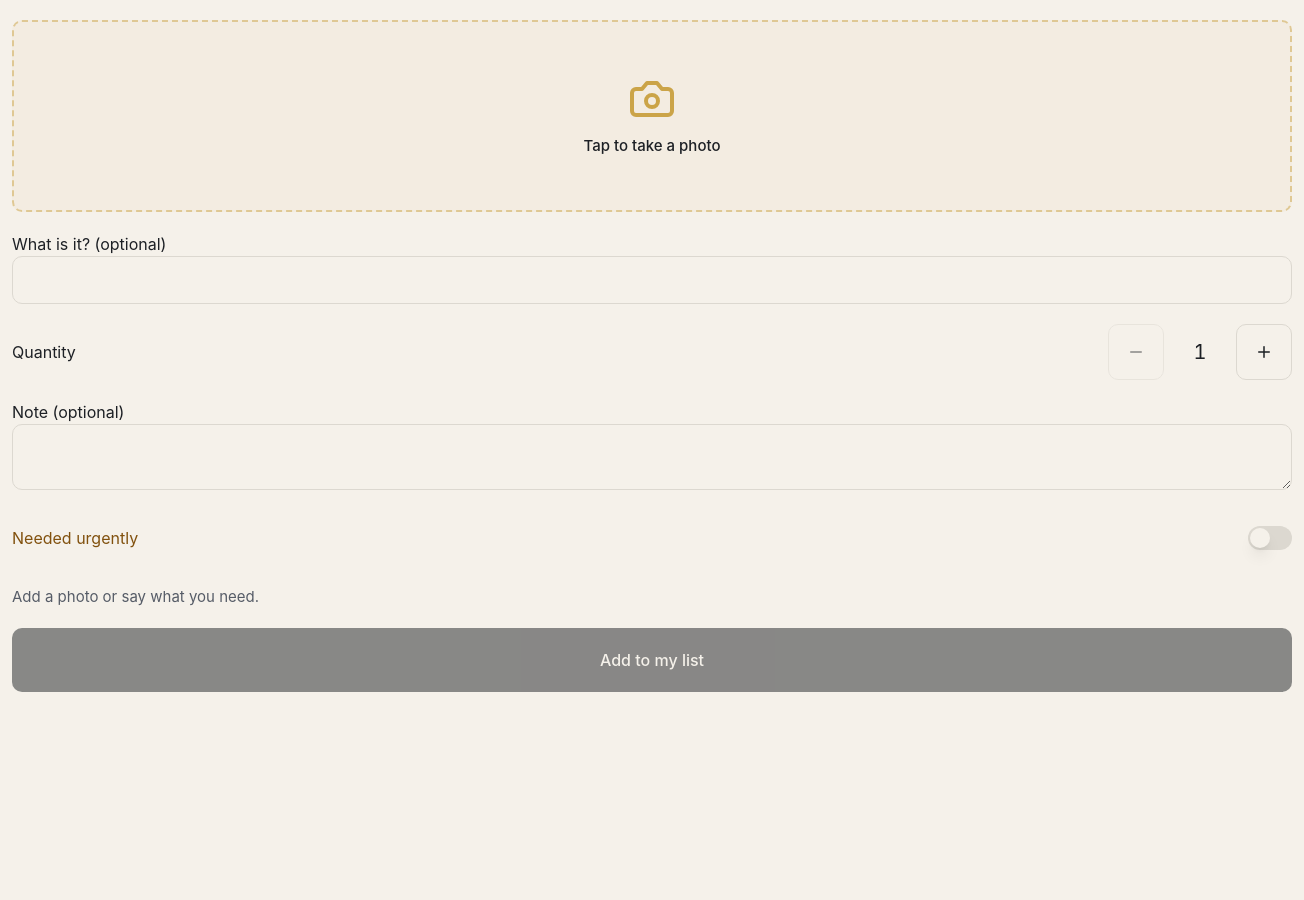
Test case: request forms › failed request keeps text and permits retry
This screenshot has width=1304, height=900.
Later steps or results of the test are not shown.
Type "Towels" into the field labelled "What is it? (optional)". click: (652, 280)
box: [12,256,1292,304]
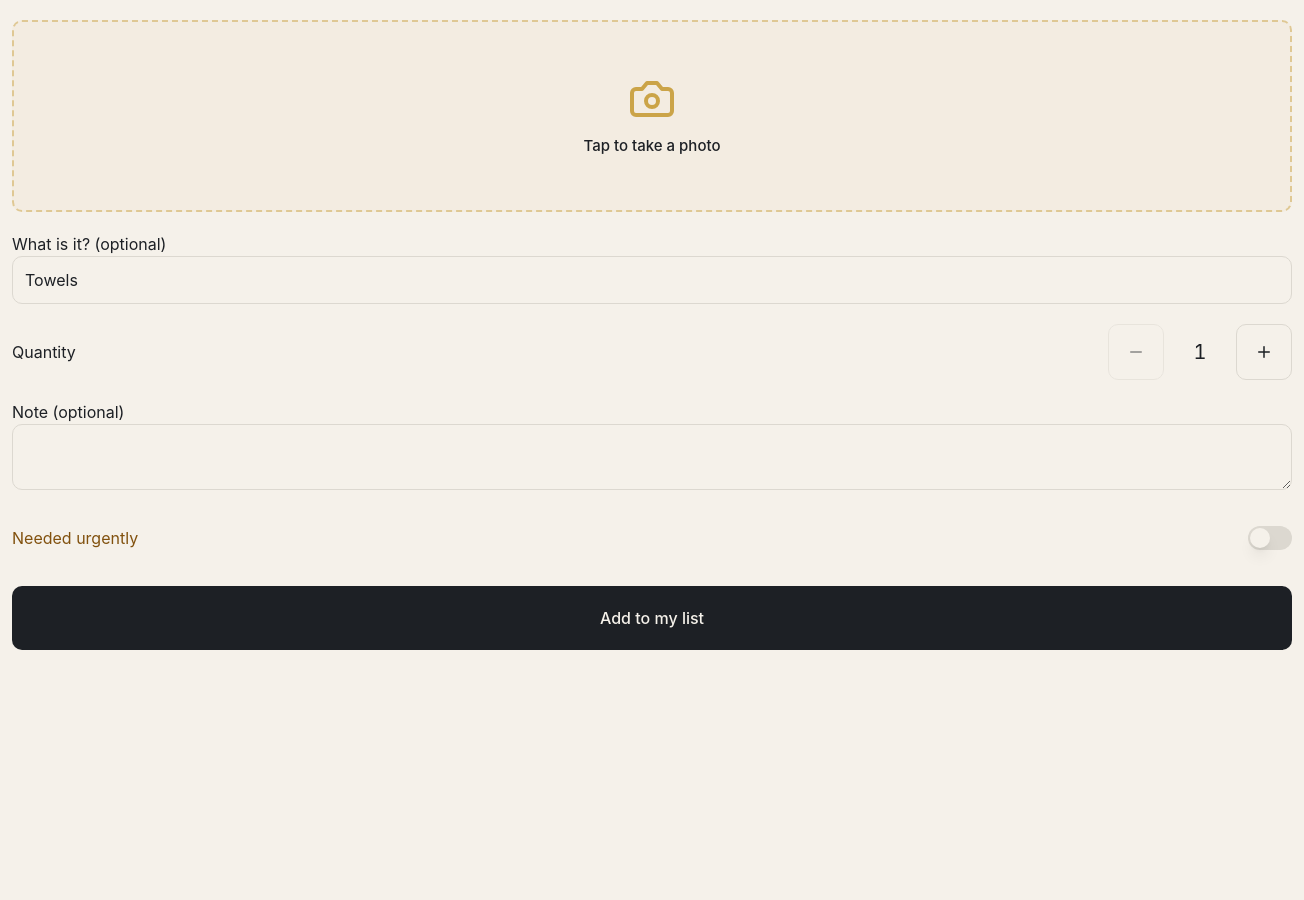
Click the button "Add to my list". click: (652, 618)
box: [12,586,1292,650]
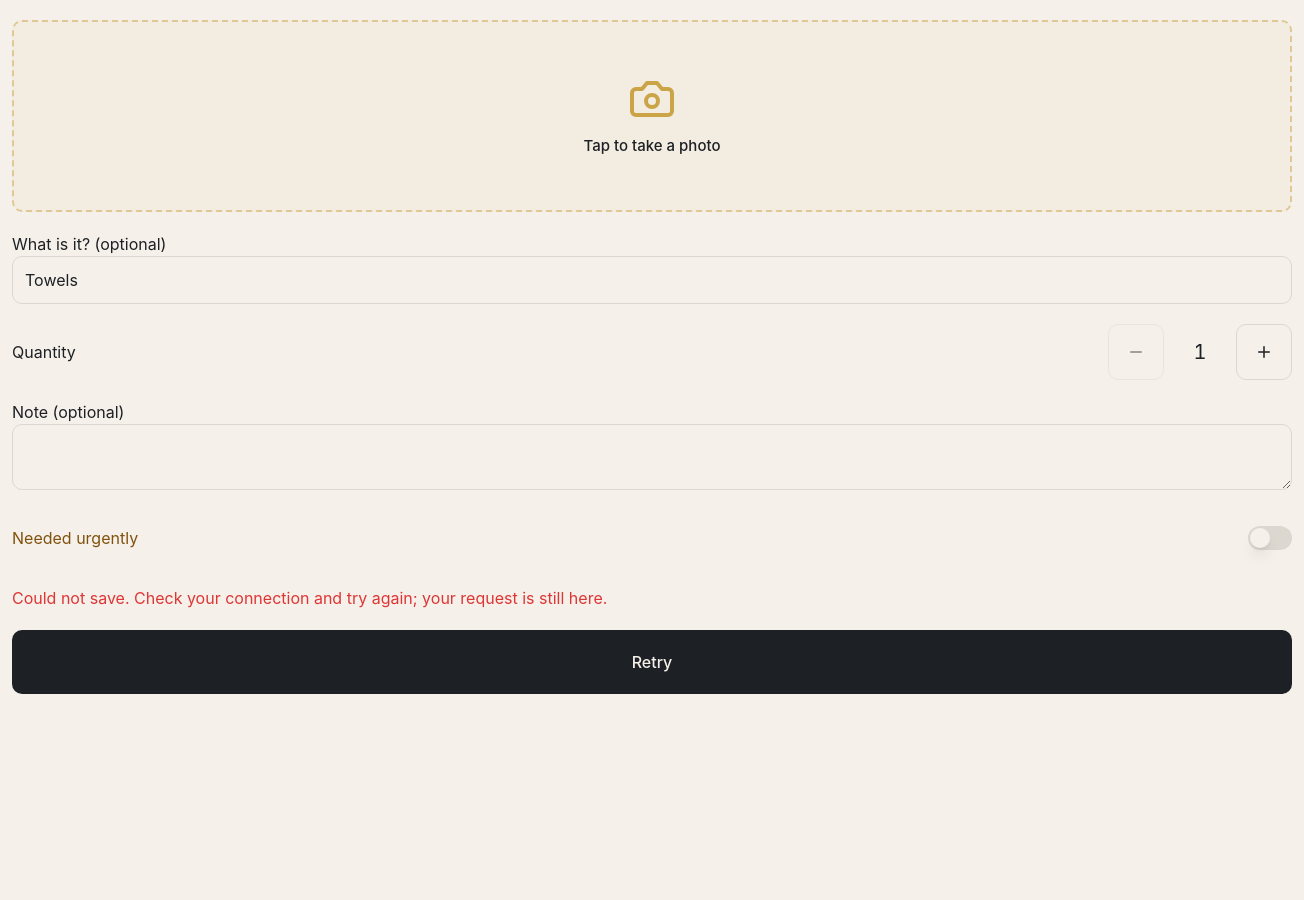
Check: the message is shown, box [12,588,607,608]
